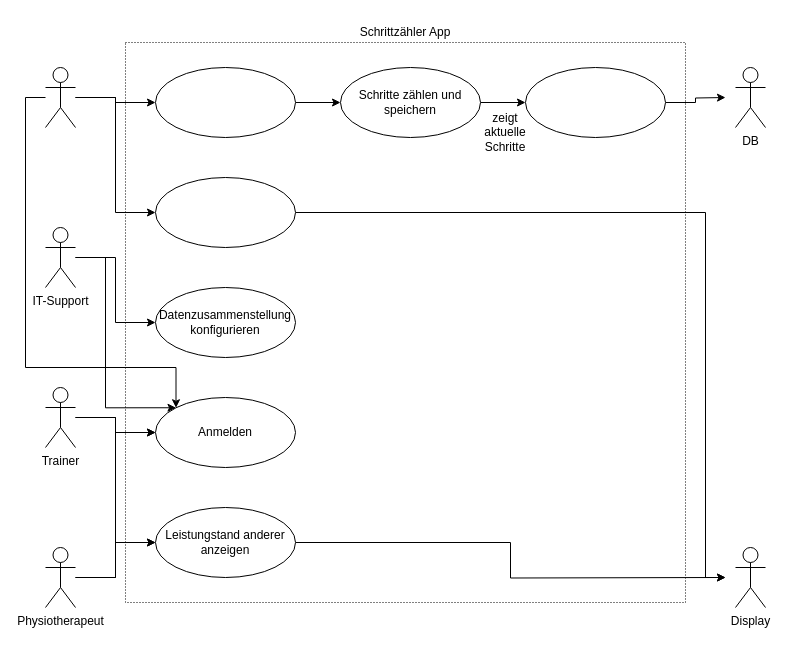
The diagram is 787 pixels wide and 645 high, and some of its shapes have lost their labels. Here are the shapes that lost their labels. From the top down, the box of each, then its label:
(44, 66, 76, 128): Fußballspieler
(154, 66, 296, 138): Schrittzählfunktion Aktivieren/Deaktivieren
(524, 66, 666, 138): Daten an DB übertragen
(154, 176, 296, 248): Eigenen Leistungsstand anzeigen
